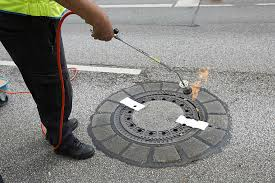Manhole-Closed: (87, 65, 235, 181)
human: (1, 1, 123, 163)
